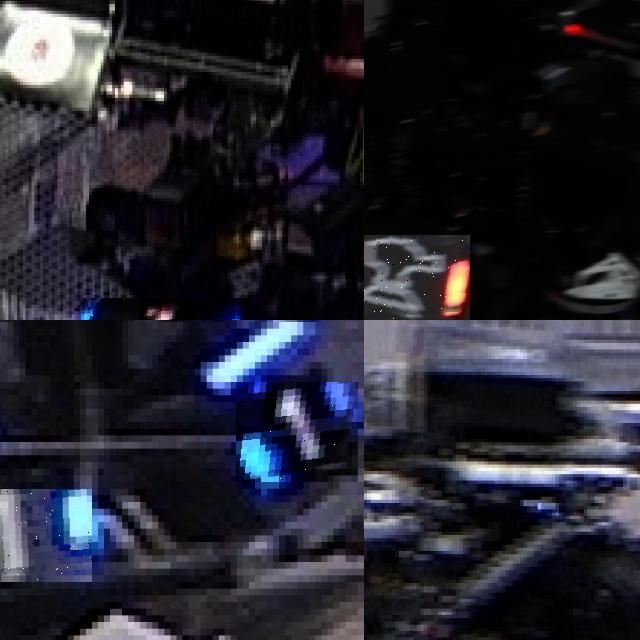B1: (236, 382, 358, 482), (0, 488, 92, 582), (80, 298, 250, 320)
Rs: (364, 235, 469, 320)
